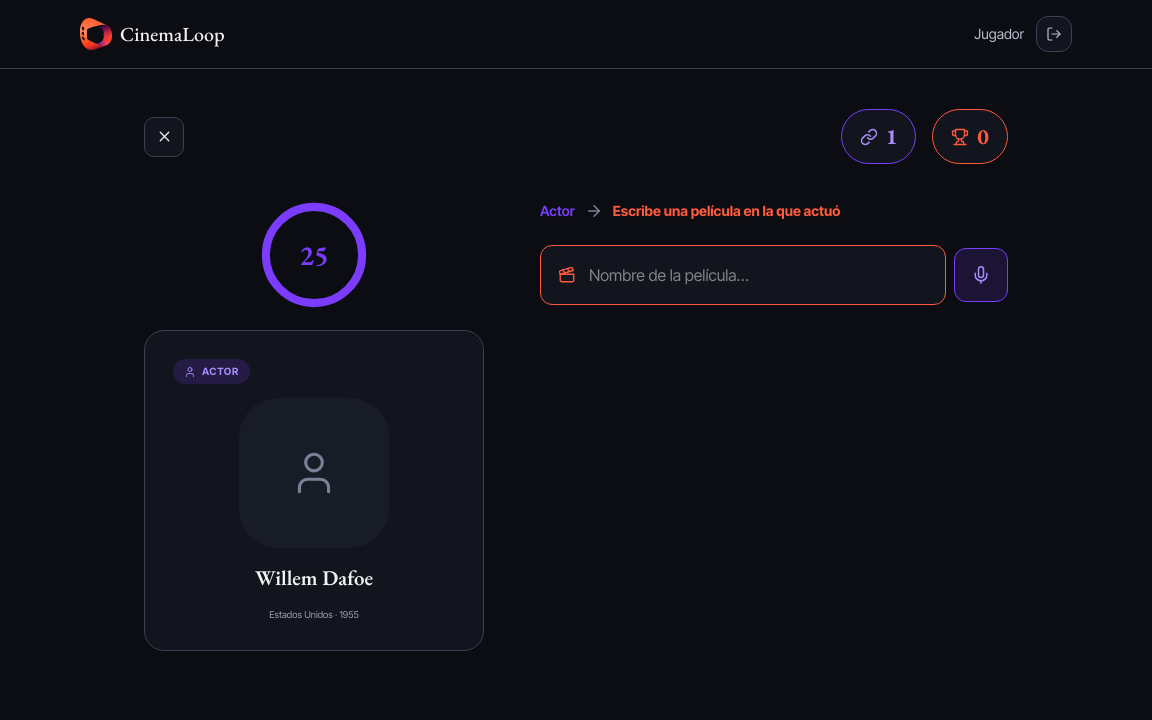
PartidaPage › retirada voluntaria (CIN-42) › cancelar la confirmación no termina la partida
The width and height of the screenshot is (1152, 720).
Click the button named "Terminar partida" at (164, 136), box left=144, top=116, right=184, bottom=156
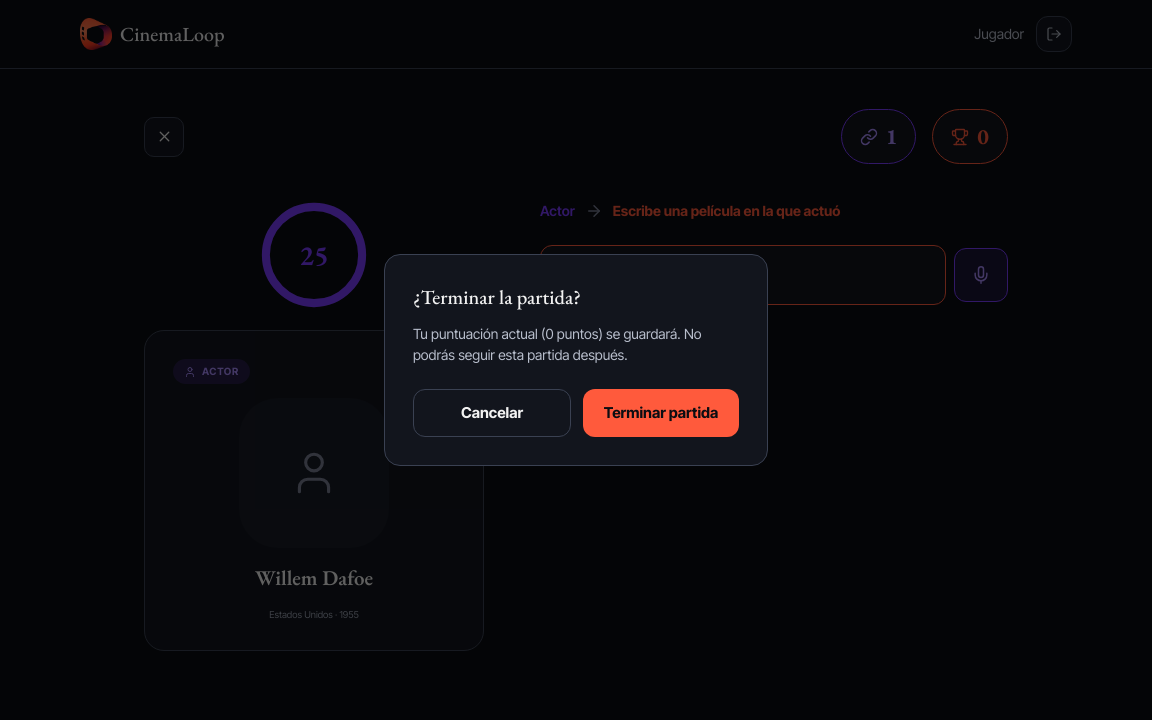
Click the button "Cancelar" at (492, 413), box left=413, top=389, right=571, bottom=437
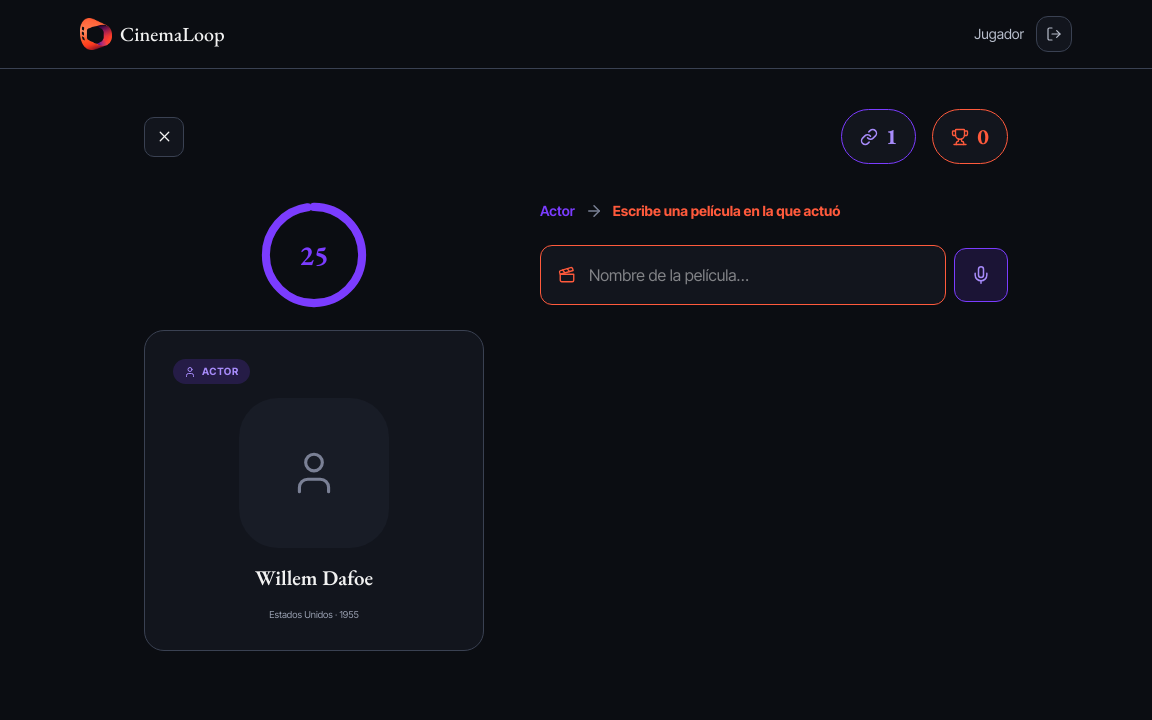
Expected: the heading "Willem Dafoe" is shown, left=255, top=562, right=373, bottom=594
Expected: the dialog is gone
